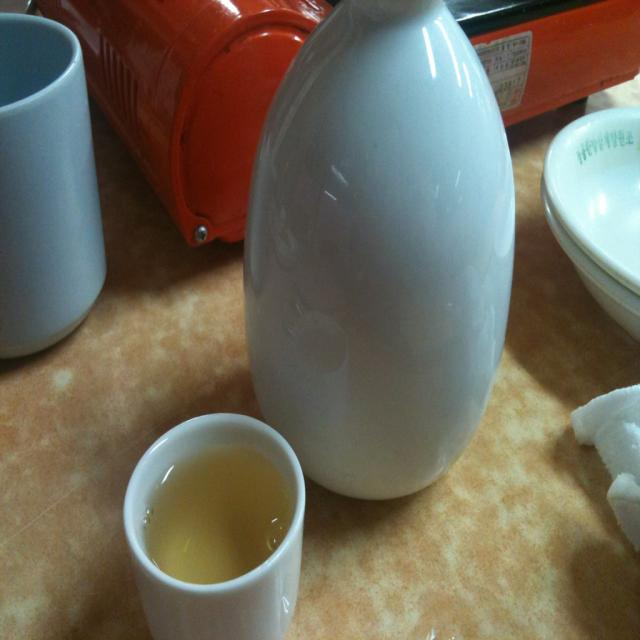Tea: (146, 453, 292, 586)
